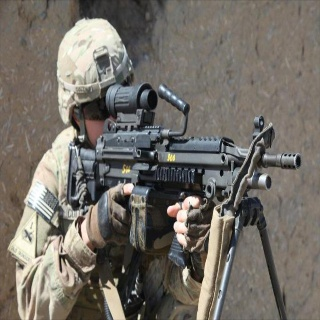rifle: (67, 80, 304, 268)
